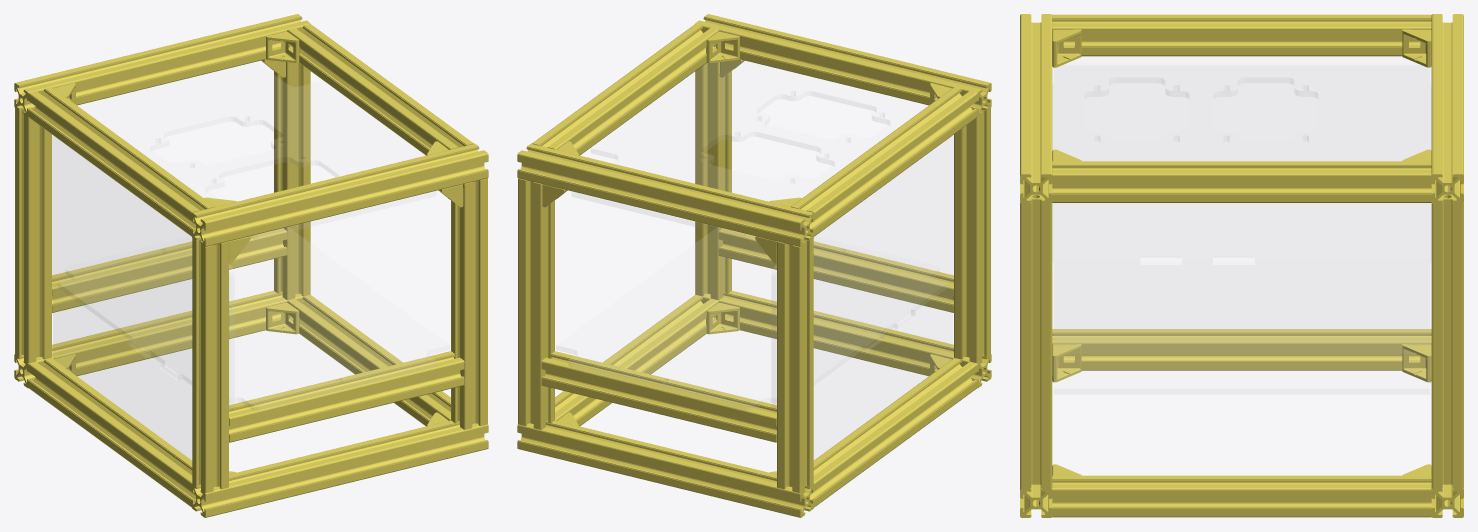
The model's file is skyminer_2_avec_materials.gltf.
3 views of the same model, side by side, from view 1: azimuth 30°, elevation 25°; view 2: azimuth 150°, elevation 25°; view 3: azimuth 270°, elevation 25° (orthographic). The views are drawn at different scales.
Visible parts, largest first — view 1: Cadre, Plexi, Equerre_proxy.006, Equerre_proxy.002; view 2: Cadre, Plexi, Equerre_proxy.007, Equerre_proxy.001; view 3: Plexi, Cadre, Equerre_proxy.003, Equerre_proxy.004, Equerre_proxy.000, Equerre_proxy.005.
Boxes of the visible parts, x1,y1,x2,y2 form: Cadre: (14, 14, 488, 517); Plexi: (52, 62, 449, 459); Equerre_proxy.006: (266, 302, 299, 334); Equerre_proxy.002: (266, 31, 299, 63); Cadre: (517, 14, 991, 517); Plexi: (556, 60, 953, 459); Equerre_proxy.007: (706, 302, 739, 334); Equerre_proxy.001: (706, 31, 739, 63); Plexi: (1052, 57, 1431, 393); Cadre: (1020, 14, 1463, 517); Equerre_proxy.003: (1402, 29, 1431, 67); Equerre_proxy.004: (1052, 29, 1081, 67); Equerre_proxy.000: (1052, 344, 1081, 382); Equerre_proxy.005: (1402, 344, 1431, 382).
Bounding box in the file's own units: 235 × 235 × 275.
